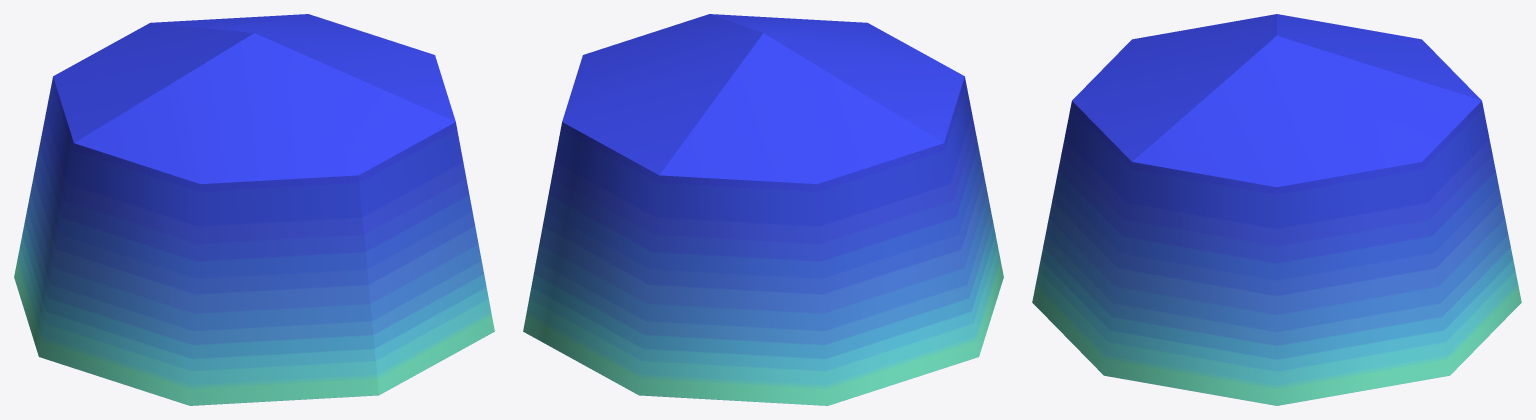
File: Grass battleground.obj
The picture shows the model from 3 angles, left to right: view 1: azimuth 30°, elevation 25°; view 2: azimuth 150°, elevation 25°; view 3: azimuth 270°, elevation 25°; orthographic projection.
Parts seen in each view (by area): view 1: attmap_kusa; view 2: attmap_kusa; view 3: attmap_kusa.
Boxes of the visible parts, box(x1,y1,x2,y2) form: attmap_kusa: box(14, 14, 494, 405); attmap_kusa: box(523, 14, 1003, 405); attmap_kusa: box(1032, 14, 1521, 405).
Size of the model in its own units: 1810 by 1088 by 1809.
7 materials, 7 textured.
